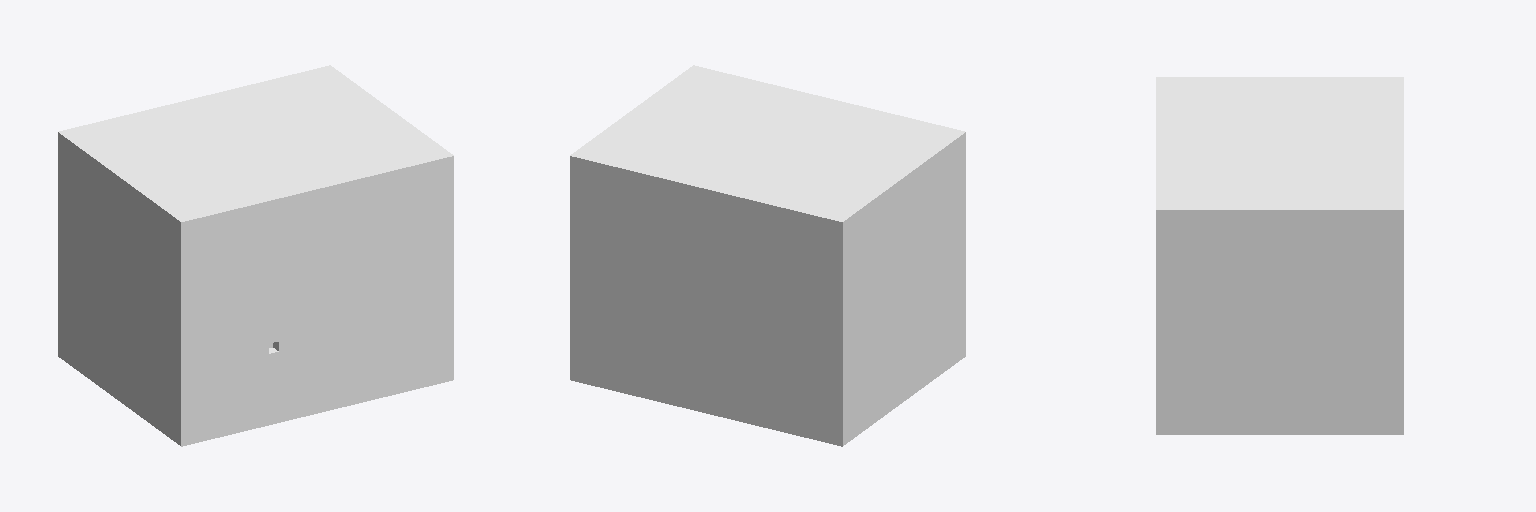
File: プリン.obj
3 renders of one model, left to right at view 1: azimuth 30°, elevation 25°; view 2: azimuth 150°, elevation 25°; view 3: azimuth 270°, elevation 25°, orthographic.
Visible parts, largest first — view 1: object 1; view 2: object 1; view 3: object 1.
Part boxes in pixels (left/top/right/bottom): object 1: left=58, top=65, right=453, bottom=446; object 1: left=570, top=65, right=965, bottom=446; object 1: left=1156, top=77, right=1403, bottom=434.
Bounding box in the file's own units: 2.8 × 2.2 × 2.2.